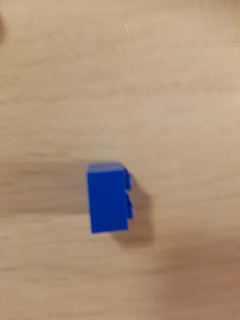2x2 blue: (86, 162, 134, 235)
